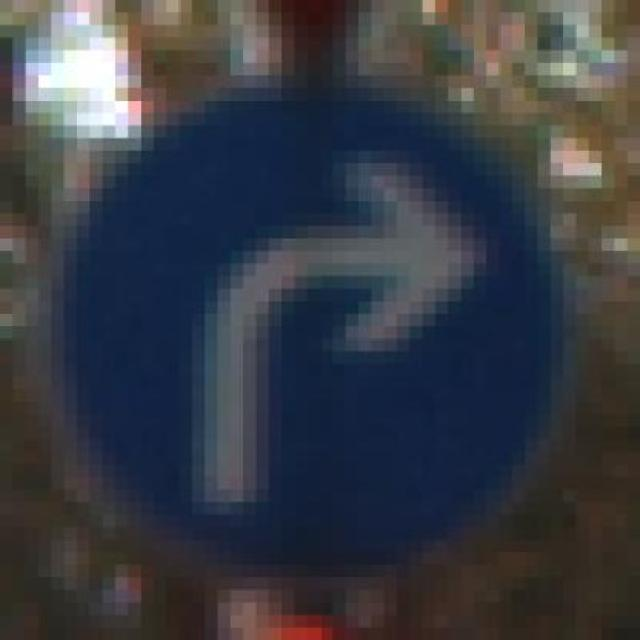Turn right ahead: (51, 38, 563, 590)
